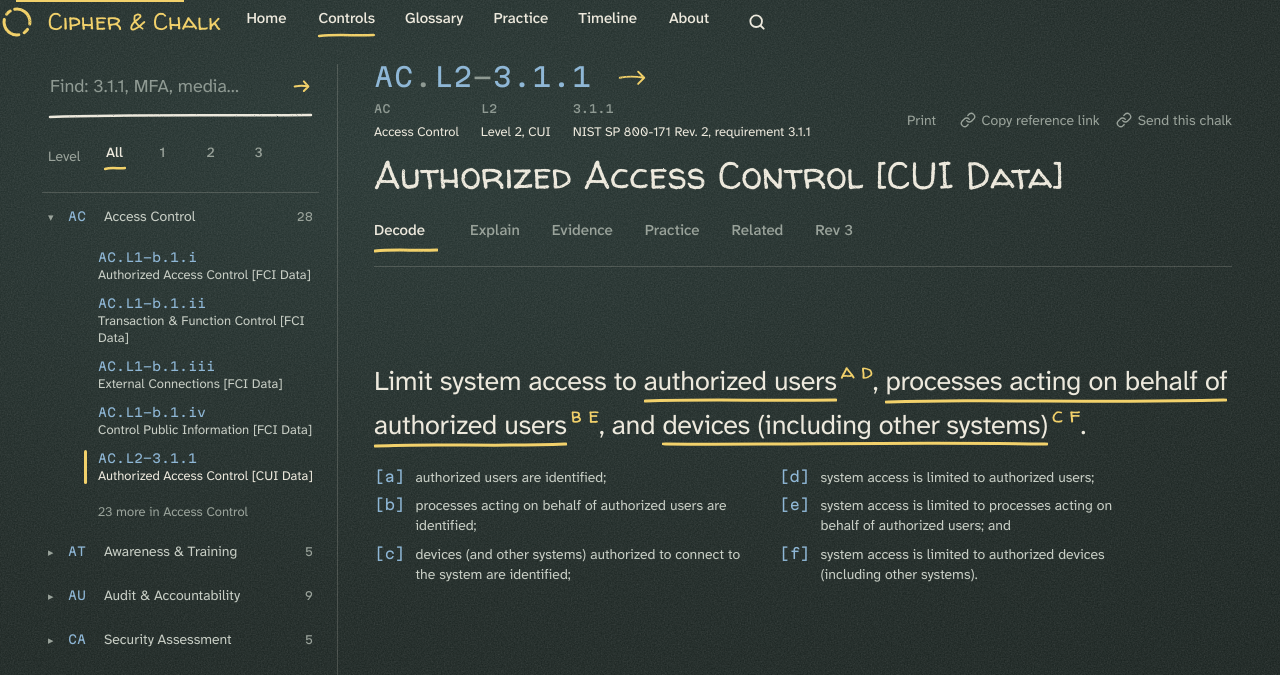
Test case: Versioned CMMC reference catalog › opens an exact source quotation with separate draft perspectives for mode compliance
The image size is (1280, 675).
Expected: the button "Copy reference link" is shown, [960, 98, 1100, 142]
Click the link "Explain": (495, 230) [470, 220, 520, 240]
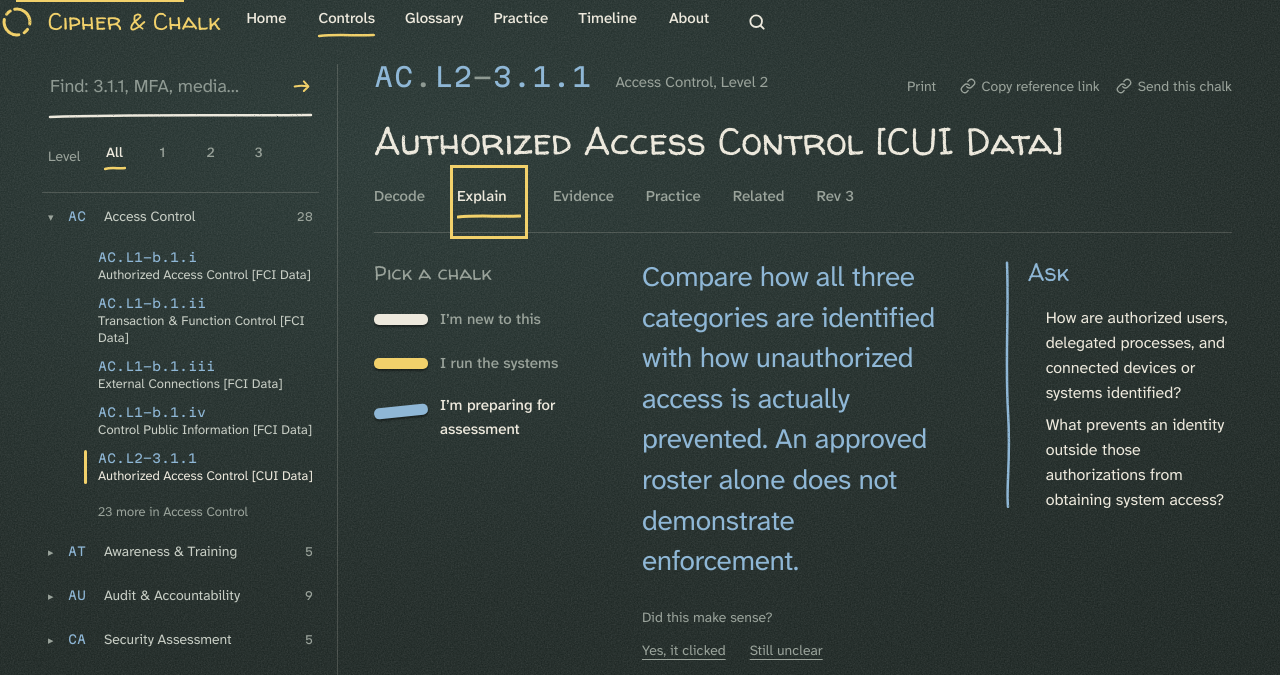
Now the panel named "I’m preparing for assessment" is shown, box [642, 257, 1232, 672]
Now the text "Pick a chalk" is shown, box [374, 259, 492, 286]
Now the number of tabs is 3, box [374, 297, 594, 341]; [374, 341, 594, 385]; [374, 385, 594, 449]
